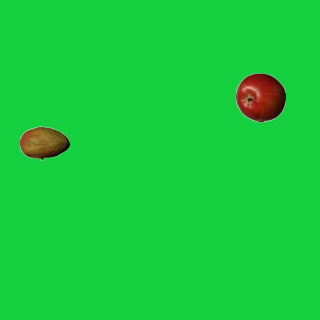Apple Braeburn: (235, 72, 285, 122)
Papaya: (19, 118, 69, 168)
